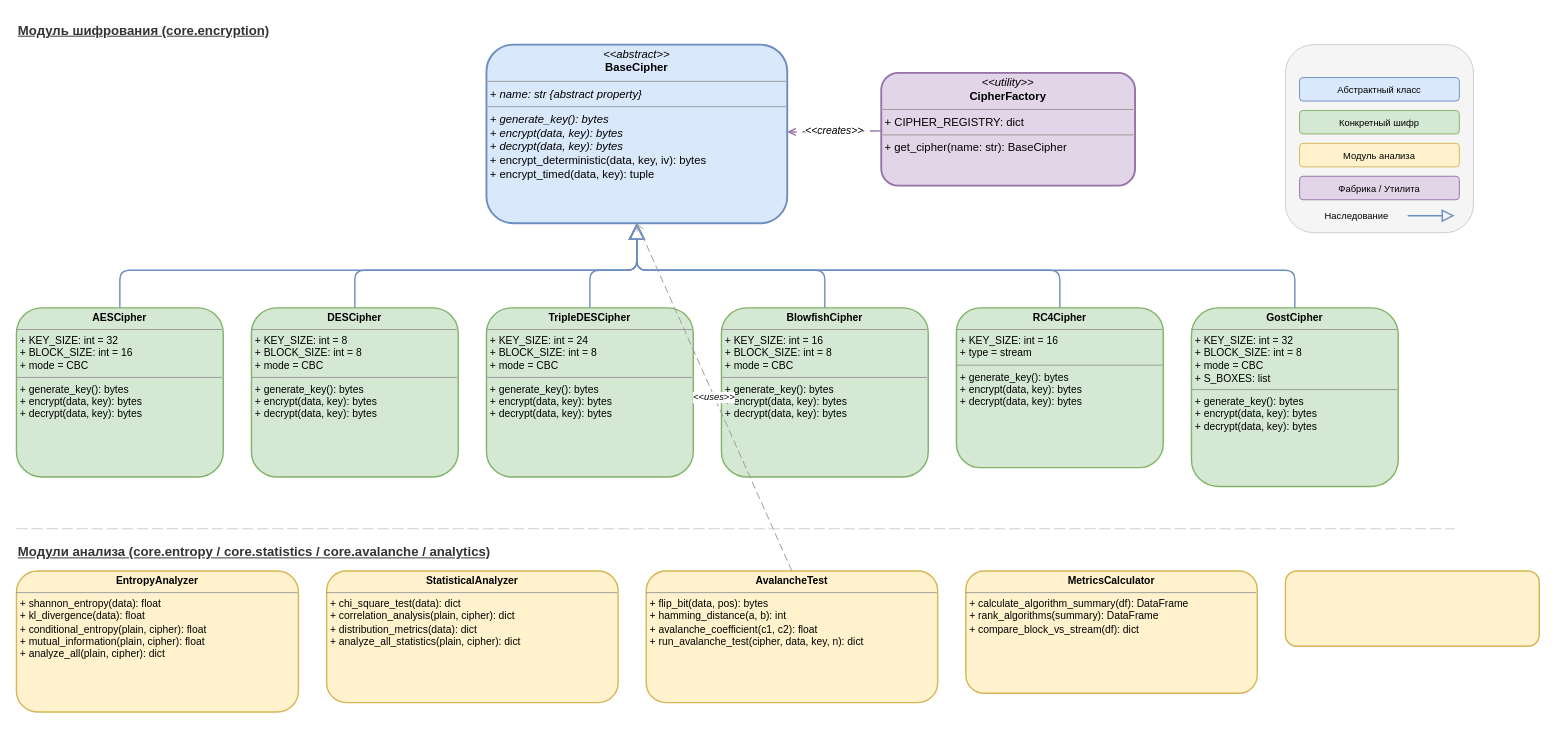
Image size: 1557x729. Some labels were removed from this diagram. The shapes that lost their labels are listed below. From the top down, each one's box as (x1, y1, x2, y2) in pixels, then its label:
(1285, 44, 1473, 233): Легенда
(1284, 570, 1540, 647): DataGenerator + generate_data(type: str, size: int): bytes
